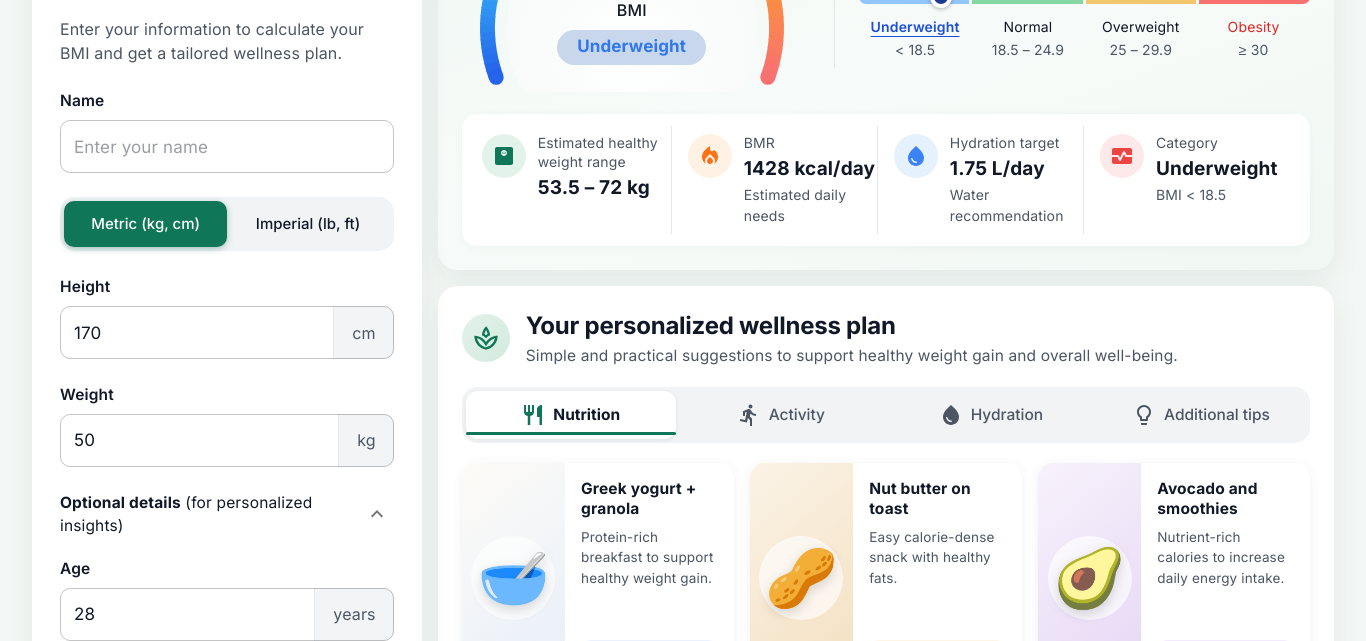
Test: BmiApp › recalculates when the user submits new values
The width and height of the screenshot is (1366, 641).
(page scrolled)
Replace the text in the field named "Weight in kilograms" with "80" at coordinates (195, 440), box [60,414,330,466]
(page scrolled)
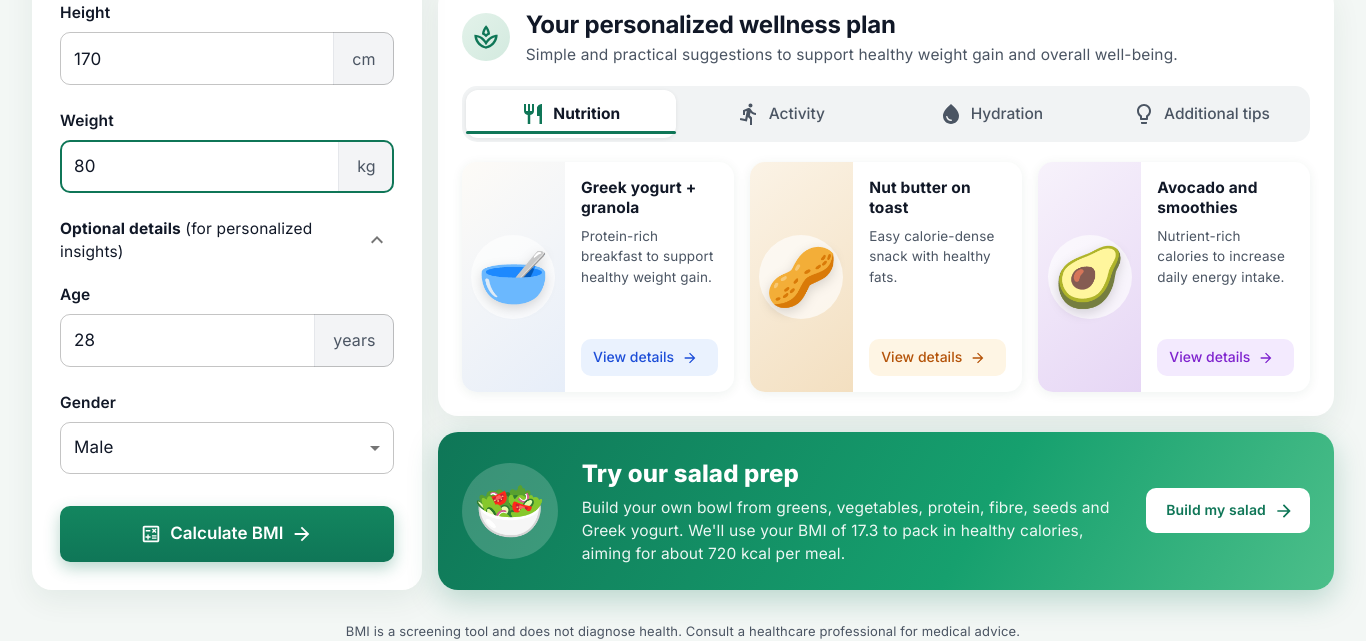
Click the button "Calculate BMI".
click(227, 534)  # box [60,506,394,562]
(page scrolled)
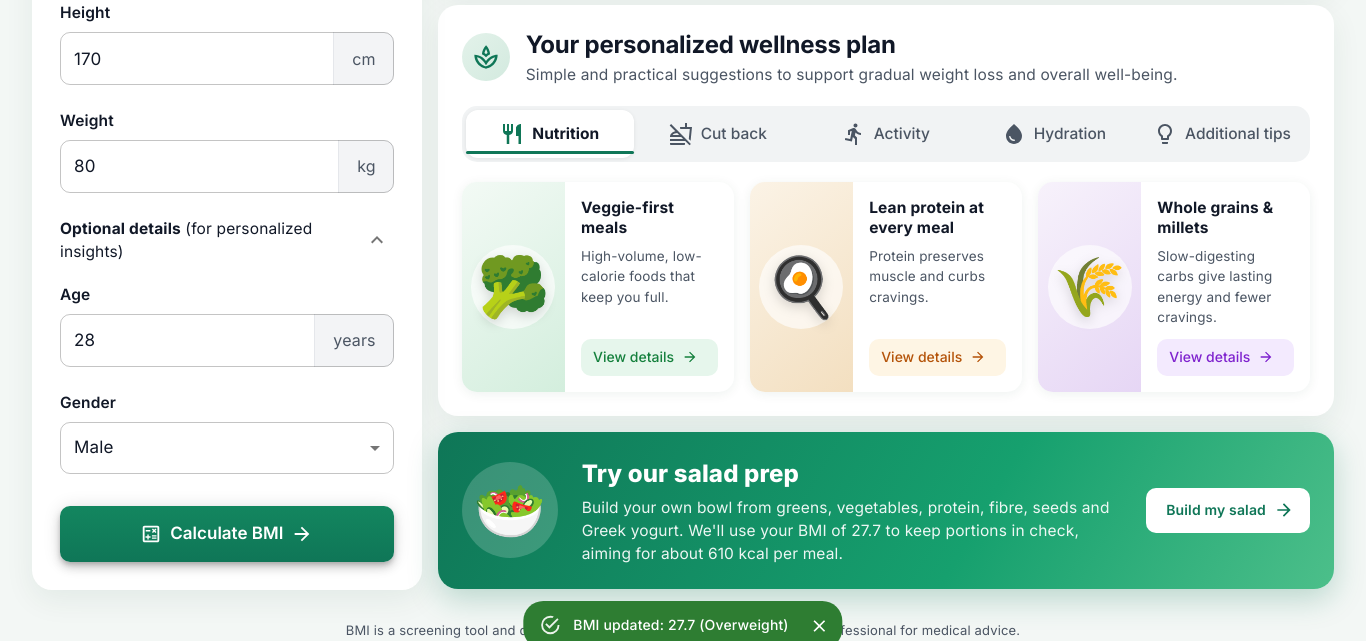
Now the text "gradual weight loss" is shown, box [526,64,1178,84]
